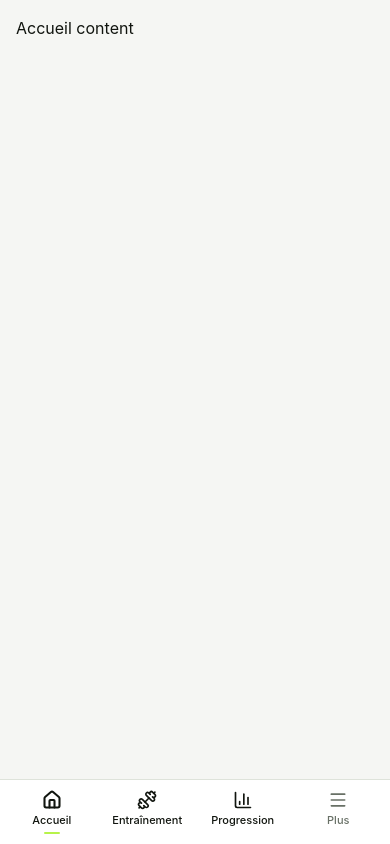
Test: App shell navigation › ouvre et ferme le menu Plus puis navigue
Click the button "Plus".
click(338, 812)  # box [290,780,386,843]
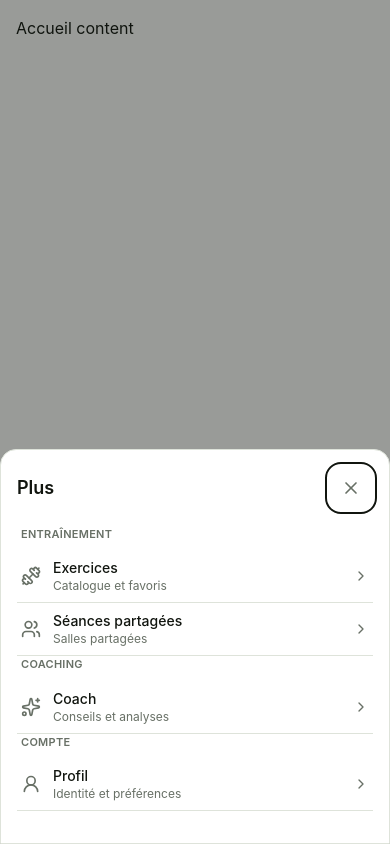
Check: the dialog "Plus" is shown, box [0,448,389,843]
Check: the heading "Entraînement" is shown, box [21,526,112,540]
Check: the heading "Coaching" is shown, box [21,657,83,671]
Click the link "Exercices Catalogue et favoris".
click(85, 568)  # box [17,550,373,603]
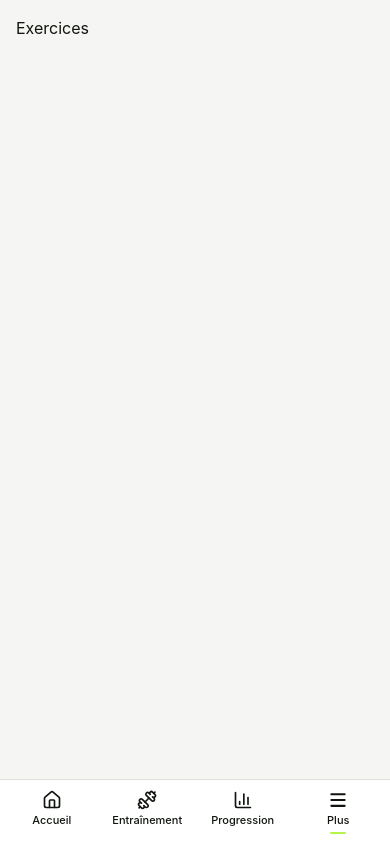
Check: the link to "/exercises" is gone
Check: the text "Exercices" is shown, box [16,18,89,38]
